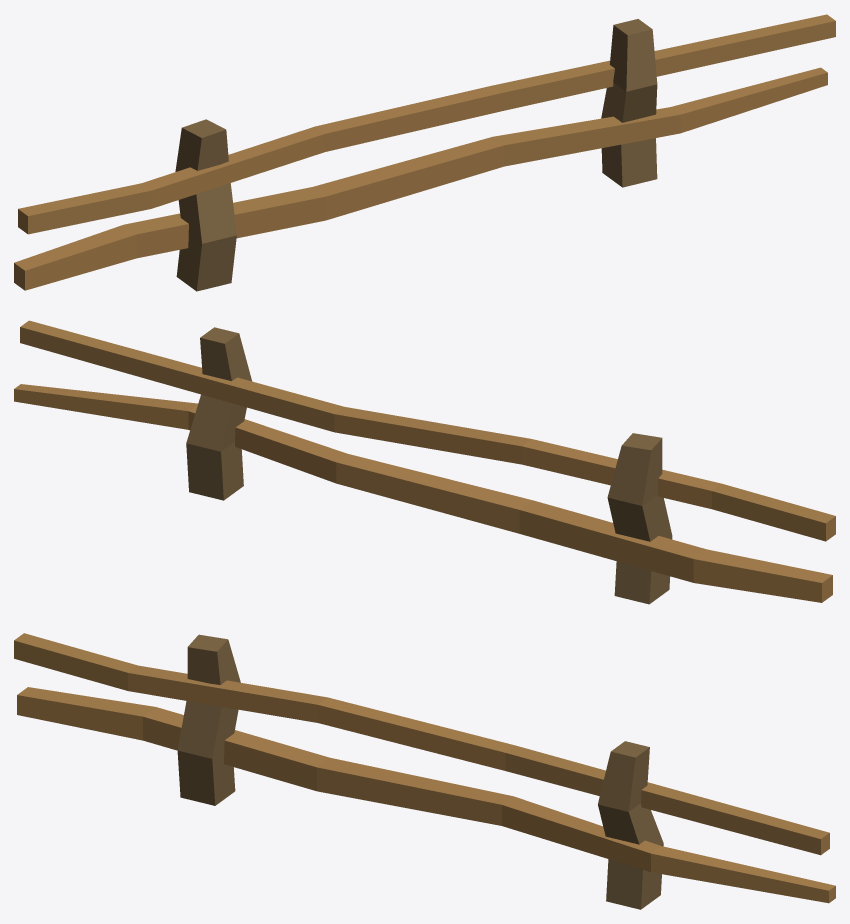
The model's file is Fence1.fbx.
The picture shows the model from 3 angles, top to bottom: view 1: azimuth 30°, elevation 25°; view 2: azimuth 150°, elevation 25°; view 3: azimuth 330°, elevation 25°; orthographic projection.
Visible parts, largest first — view 1: Fence1; view 2: Fence1; view 3: Fence1.
Boxes of the visible parts, box(x1,y1,x2,y2) form: Fence1: box(14, 14, 835, 291); Fence1: box(14, 320, 835, 604); Fence1: box(14, 633, 835, 909).
Bounding box in the file's own units: 9.96 × 1.78 × 0.6629.
1 material, 1 textured.
